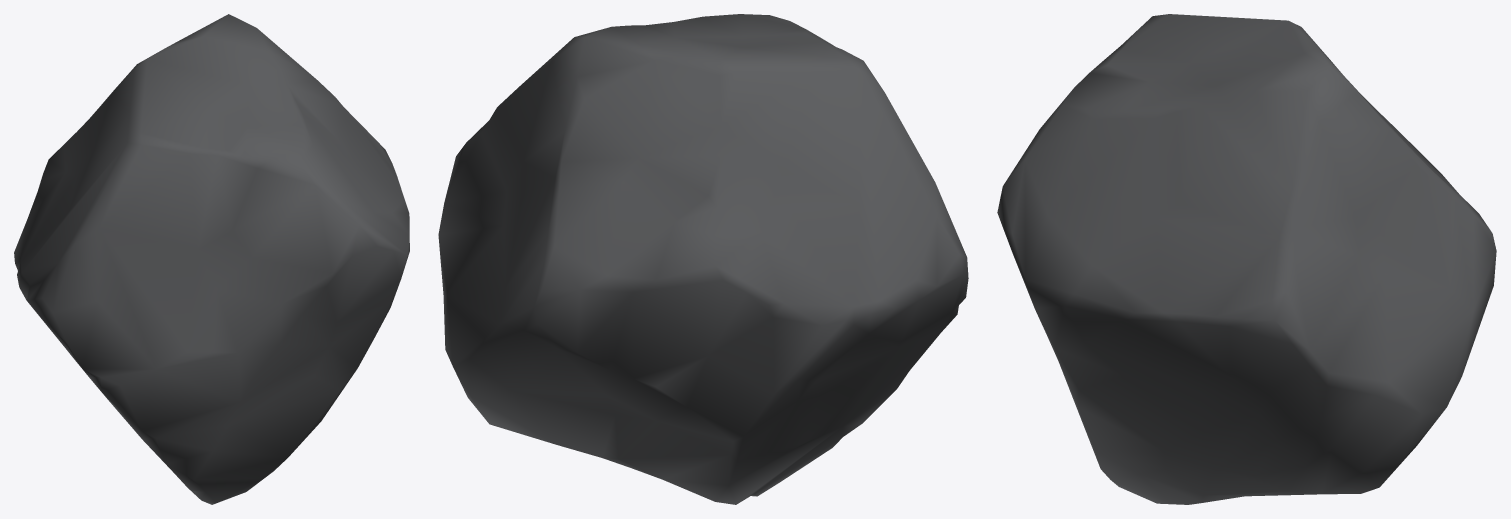
Rendered from Sem4_Environment_Stein01_JT.fbx.
3 renders of one model, left to right at view 1: azimuth 30°, elevation 25°; view 2: azimuth 150°, elevation 25°; view 3: azimuth 270°, elevation 25°, orthographic. The views are drawn at different scales.
Visible parts, largest first — view 1: Stein_JT; view 2: Stein_JT; view 3: Stein_JT.
Boxes of the visible parts, left/top/right/bottom form: Stein_JT: left=14, top=14, right=409, bottom=504; Stein_JT: left=438, top=14, right=968, bottom=504; Stein_JT: left=997, top=14, right=1496, bottom=504.
Size of the model in its own units: 34.76 by 35.23 by 32.97.
